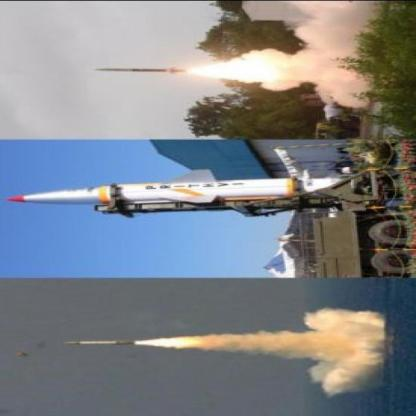MIL_TBM: (4, 175, 302, 206), (62, 336, 140, 347), (95, 65, 188, 74)
